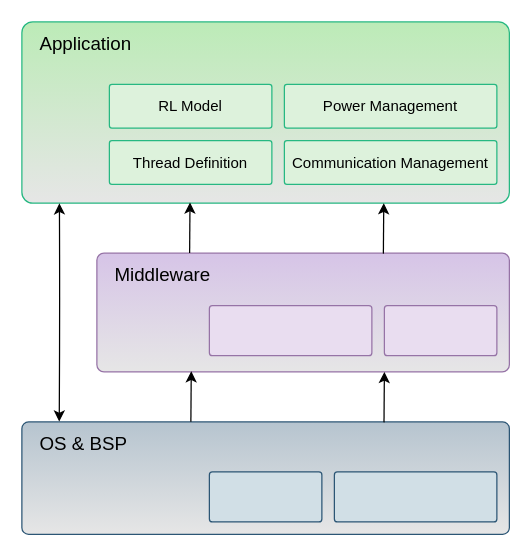
Image size: 531x556. Some labels were removed from this diagram. Here are the shapes that lost their labels. From the top down, the centre of each, then its label:
(290,330): RF Module Framework
(440,330): RL Framework
(265,496): FreeRTOS
(415,496): Communication Driver
